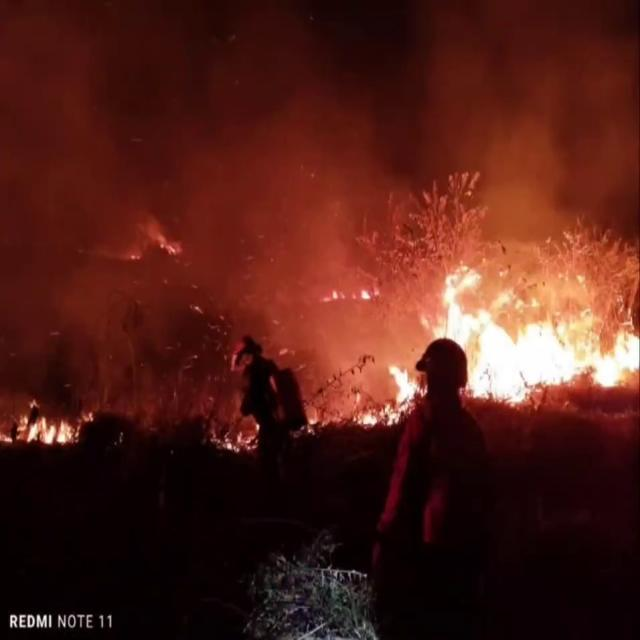Fire: (376, 255, 640, 414), (12, 406, 80, 450)
Smoke: (0, 1, 417, 393), (424, 1, 640, 240)
